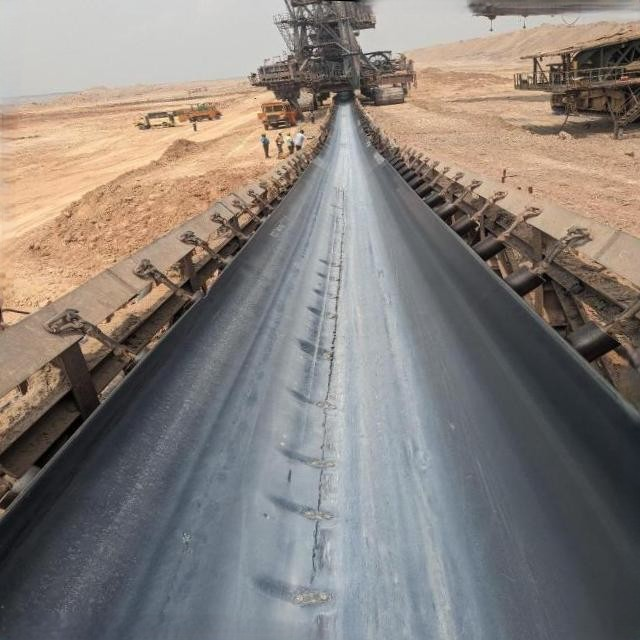Tear: (298, 194, 356, 640)
